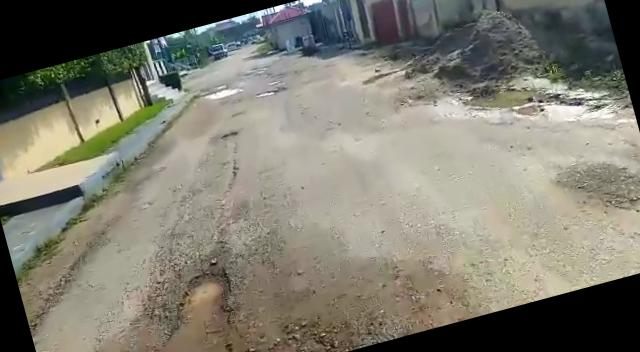pothole: (155, 268, 240, 329), (197, 82, 246, 104), (252, 84, 284, 100)
